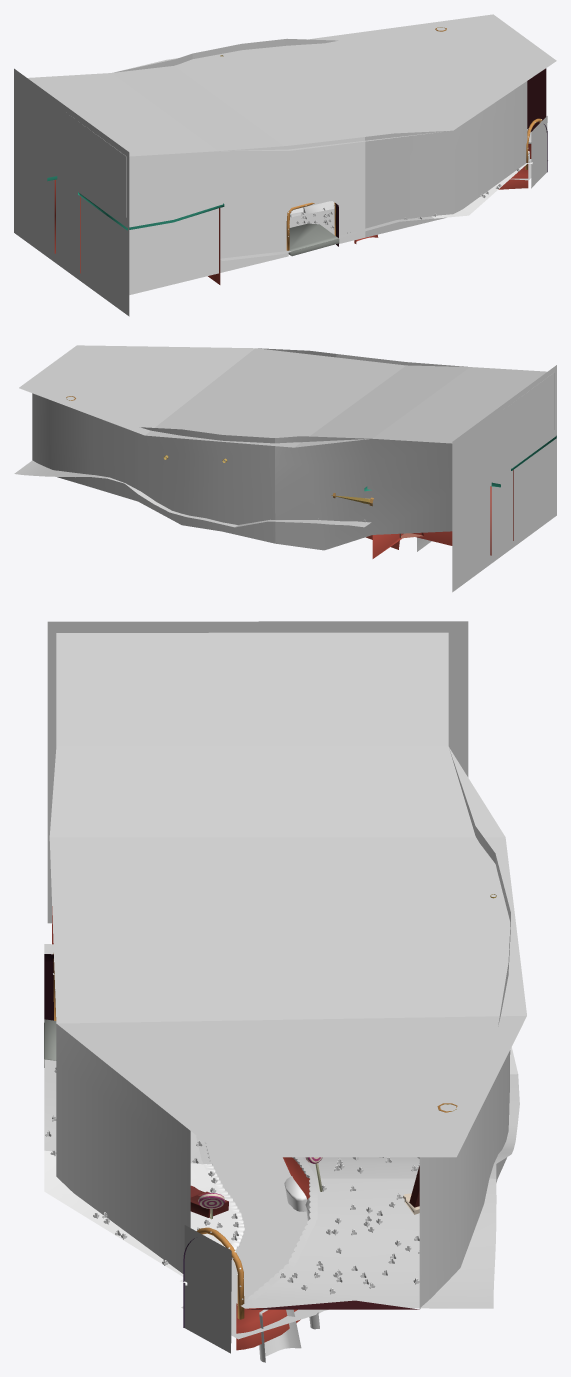
Rendered from aftermath_shotgun_clerk_environment.fbx.
3 renders of one model, top to bottom at view 1: azimuth 30°, elevation 25°; view 2: azimuth 150°, elevation 25°; view 3: azimuth 270°, elevation 25°, orthographic. The views are drawn at different scales.
Visible parts, largest first — view 1: wall_6_geo, roof_3_geo, subblocker_2_geo, wall_5_geo, roof_2_geo, roof_1_geo, environment_corner_1_geo, wall_4_geo, subblocker_1_geo, wall_2_geo, grass_plain_1_geo, grass_plain_3_geo (+1 smaller); view 2: roof_3_geo, wall_1_geo, subblocker_2_geo, wall_2_geo, roof_2_geo, wall_3_geo, roof_1_geo, environment_corner_2_geo, grass_plain_4_geo, wall_6_geo, grass_plain_5_geo; view 3: roof_3_geo, roof_2_geo, roof_1_geo, wall_5_geo, grass_plain_4_geo, subblocker_2_geo, wall_3_geo, river_3_geo, subblocker_1_geo, grass_plain_3_geo, grass_plain_5_geo, cliffs_5_geo (+8 smaller).
Boxes of the visible parts, box(x1,y1,x2,y2) form: wall_6_geo: box(126, 137, 365, 294); roof_3_geo: box(243, 14, 556, 140); subblocker_2_geo: box(14, 68, 129, 316); wall_5_geo: box(365, 81, 527, 237); roof_2_geo: box(112, 50, 371, 151); roof_1_geo: box(27, 73, 218, 156); environment_corner_1_geo: box(78, 192, 339, 284); wall_4_geo: box(527, 68, 547, 172); subblocker_1_geo: box(531, 116, 547, 188); wall_2_geo: box(192, 38, 337, 58); grass_plain_1_geo: box(220, 211, 358, 260); grass_plain_3_geo: box(431, 161, 532, 218); roof_3_geo: box(19, 345, 330, 441); wall_1_geo: box(275, 436, 452, 550); subblocker_2_geo: box(452, 365, 556, 592); wall_2_geo: box(137, 427, 275, 543); roof_2_geo: box(220, 357, 469, 447); wall_3_geo: box(32, 393, 137, 501); roof_1_geo: box(373, 367, 554, 443); environment_corner_2_geo: box(364, 482, 500, 558); grass_plain_4_geo: box(14, 460, 108, 478); wall_6_geo: box(336, 354, 554, 429); grass_plain_5_geo: box(108, 477, 237, 527); roof_3_geo: box(53, 926, 526, 1157); roof_2_geo: box(49, 746, 516, 930); roof_1_geo: box(56, 632, 448, 746); wall_5_geo: box(56, 1024, 190, 1273); grass_plain_4_geo: box(236, 1178, 496, 1308); subblocker_2_geo: box(47, 621, 468, 923); wall_3_geo: box(419, 1076, 497, 1308); river_3_geo: box(181, 1176, 319, 1339); subblocker_1_geo: box(184, 1225, 231, 1353); grass_plain_3_geo: box(44, 1150, 244, 1285); grass_plain_5_geo: box(292, 1074, 519, 1178); cliffs_5_geo: box(236, 1157, 309, 1350).
Bounding box in the file's own units: 63.51 × 23.04 × 29.82.
